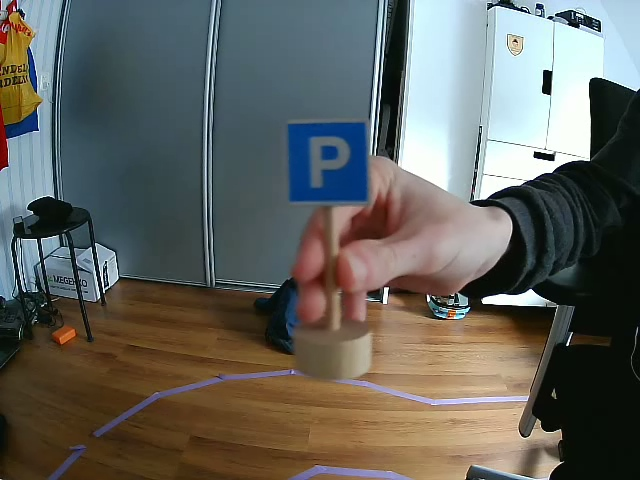parkeerbord: (285, 117, 371, 204)
